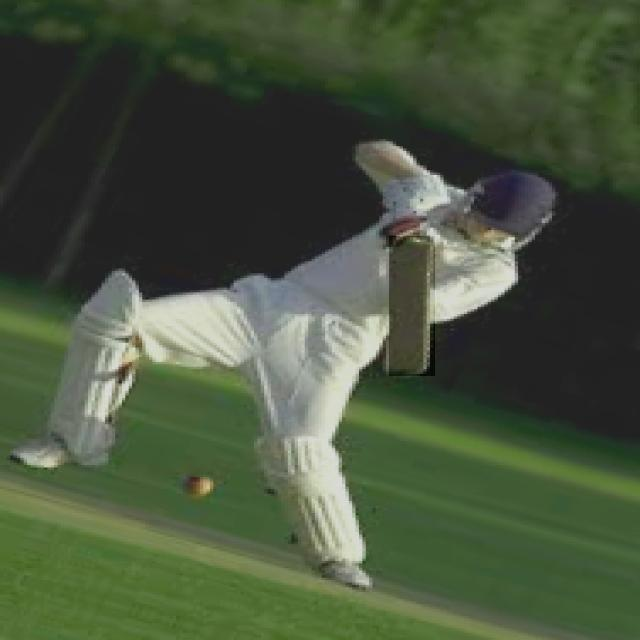bat: (385, 231, 441, 387)
toe: (390, 363, 440, 385)
